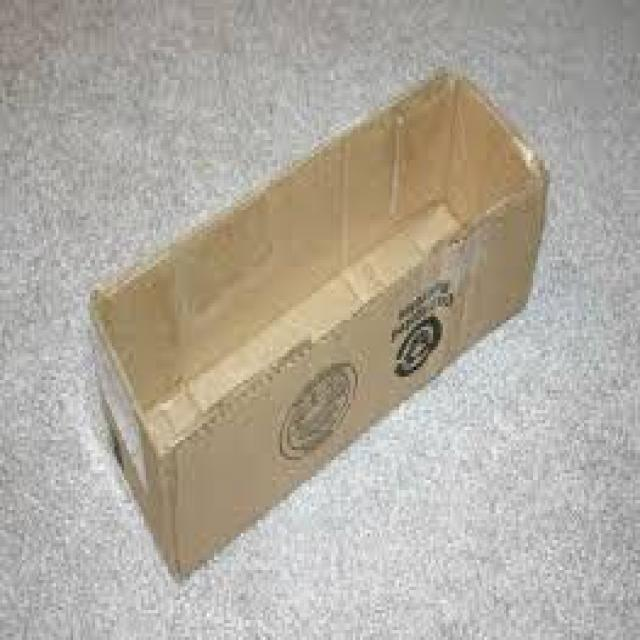Cardboard: (91, 64, 543, 579)
